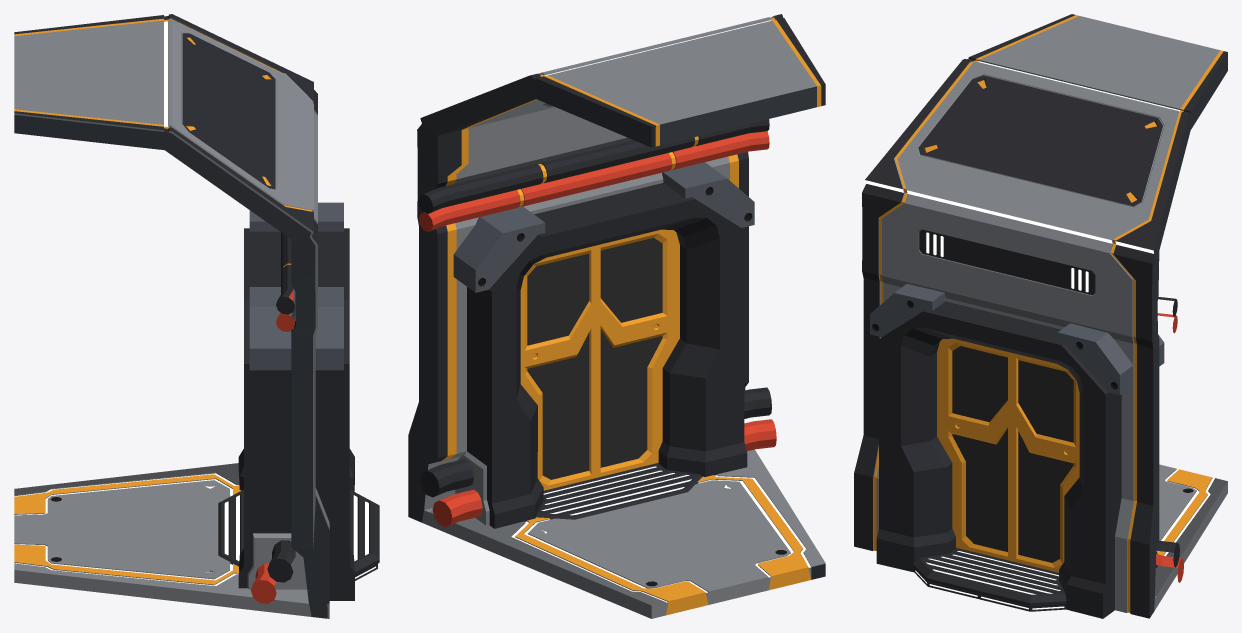
Rendered from SM_Door_For_Type_01.glb.
3 renders of one model, left to right at view 1: azimuth 30°, elevation 25°; view 2: azimuth 150°, elevation 25°; view 3: azimuth 270°, elevation 25°, orthographic. The views are drawn at different scales.
Parts seen in each view (by area): view 1: SM_Door_For_Type_01; view 2: SM_Door_For_Type_01, SM_Door_Left_For_Type_01, SM_Door_Right_For_Type_01; view 3: SM_Door_For_Type_01, SM_Door_Left_For_Type_01, SM_Door_Right_For_Type_01.
Part boxes in pixels (left/top/right/bottom): SM_Door_For_Type_01: left=14, top=14, right=379, bottom=618; SM_Door_For_Type_01: left=408, top=14, right=825, bottom=618; SM_Door_Left_For_Type_01: left=596, top=229, right=679, bottom=477; SM_Door_Right_For_Type_01: left=520, top=245, right=595, bottom=490; SM_Door_For_Type_01: left=854, top=14, right=1227, bottom=618; SM_Door_Left_For_Type_01: left=937, top=338, right=1011, bottom=561; SM_Door_Right_For_Type_01: left=1012, top=353, right=1079, bottom=572.
Size of the model in its own units: 4.37 by 5.49 by 4.21.
Materials: 3 (1 with a texture image).
